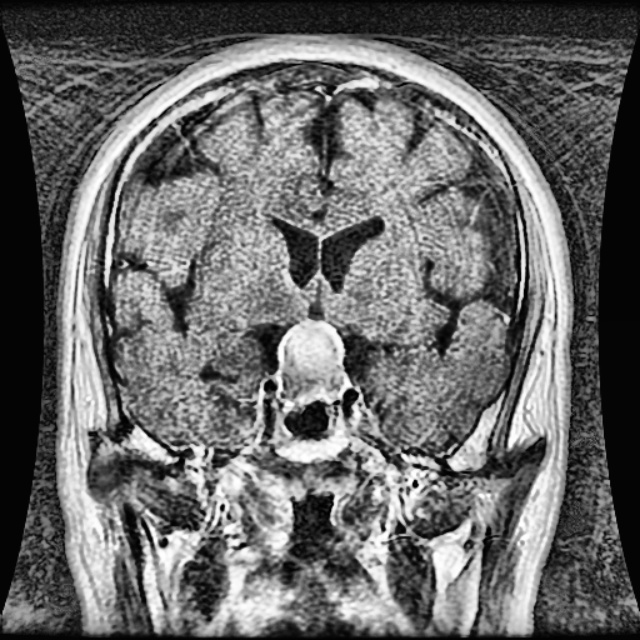Pituitary: (282, 323, 342, 388)
